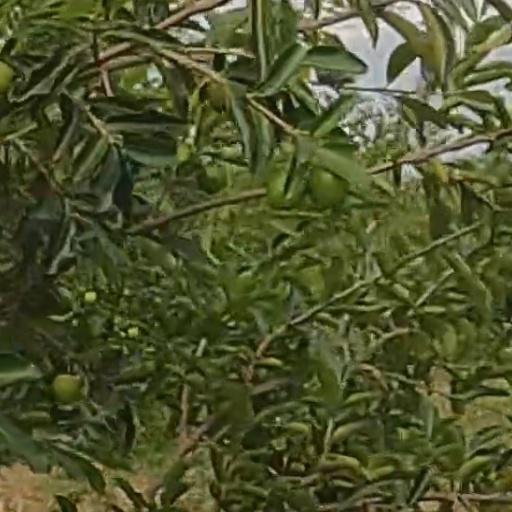acerola_verde: (271, 174, 306, 209), (315, 175, 346, 208), (199, 164, 226, 193)
